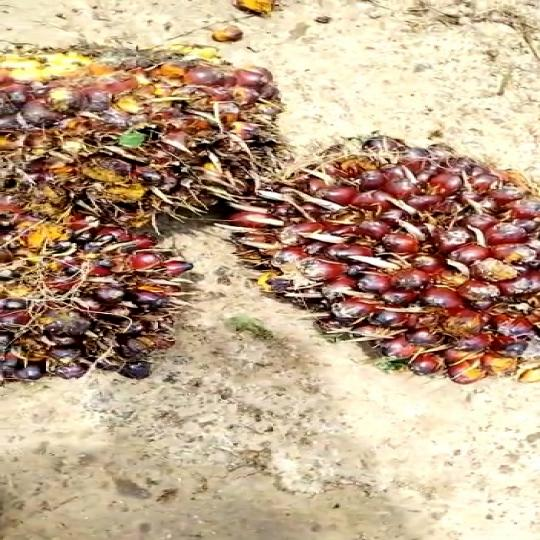masak: (228, 130, 540, 388), (0, 31, 294, 239), (0, 219, 221, 383)
